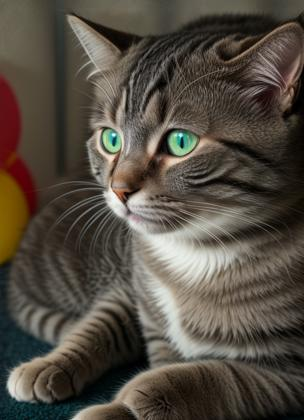cat: (3, 12, 304, 420)
